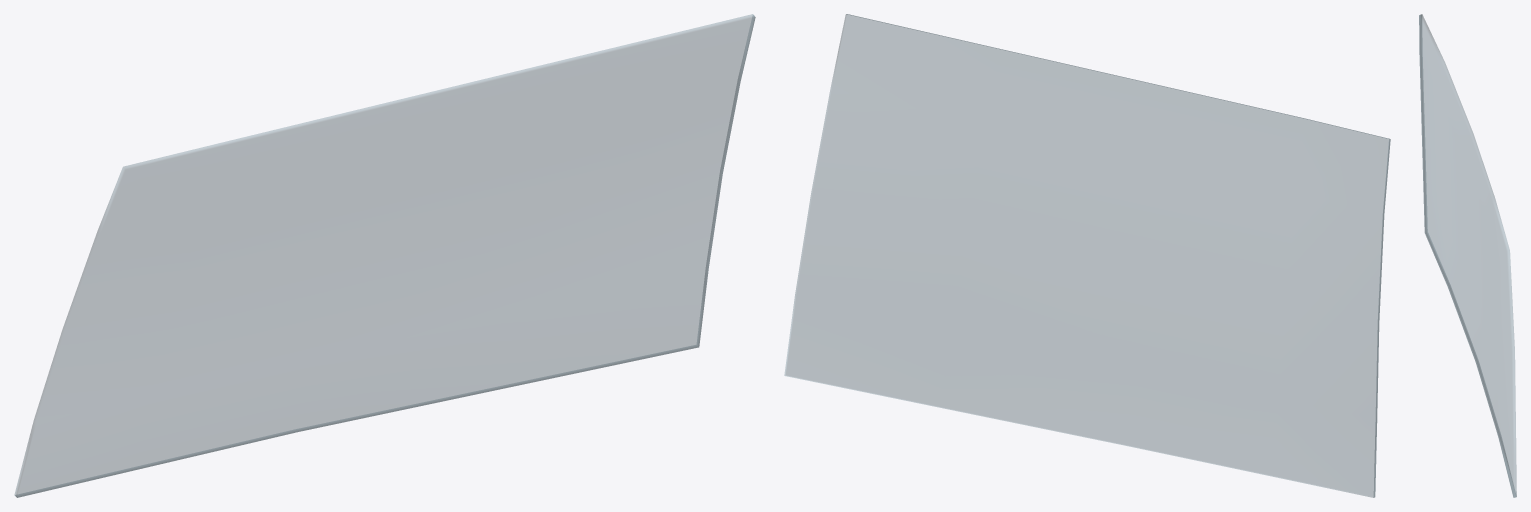
3 renders of one model, left to right at view 1: azimuth 30°, elevation 25°; view 2: azimuth 150°, elevation 25°; view 3: azimuth 270°, elevation 25°, orthographic. The views are drawn at different scales.
Parts seen in each view (by area): view 1: SM_NissanPatrol_Door_RL_Glass_Ext2; view 2: SM_NissanPatrol_Door_RL_Glass_Ext2; view 3: SM_NissanPatrol_Door_RL_Glass_Ext2.
Boxes of the visible parts, x1=… form: SM_NissanPatrol_Door_RL_Glass_Ext2: x1=14, y1=14, x2=755, y2=497; SM_NissanPatrol_Door_RL_Glass_Ext2: x1=784, y1=14, x2=1390, y2=497; SM_NissanPatrol_Door_RL_Glass_Ext2: x1=1419, y1=14, x2=1516, y2=497.
Size of the model in its own units: 0.9378 by 0.5026 by 0.1669.
